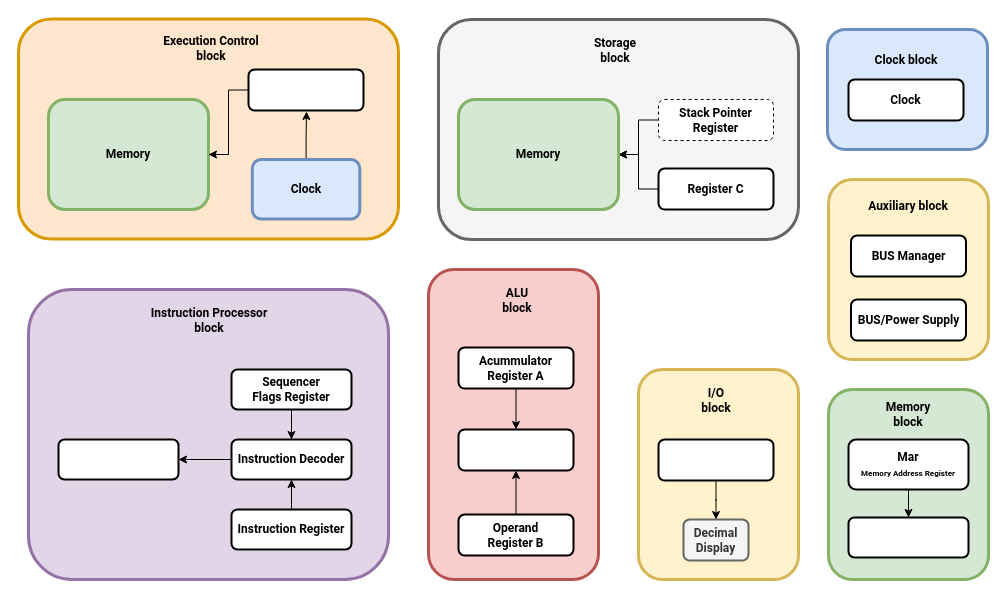
Image size: 1007x606. Some labels were removed from this diagram. The shapes that lost their labels are listed below. From the top down, each one's centre as x and y in pixels, then its label:
At (305,89): "Program Counter".
At (118,459): "Control Signals Manager".
At (515,449): "ALU".
At (715,459): "Output Register".
At (908,537): "SRAM".
